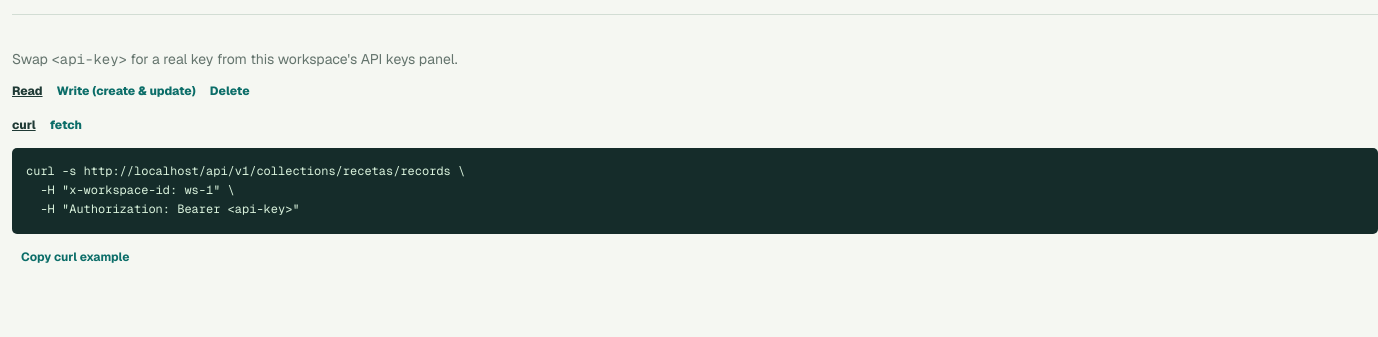
ApiExamplePanel › switches to a write example with a schema header and body when Write is picked
What coordinates should you click on to do the following:
click the button "Write (create & update)"
I would click on:
 (126, 91)
Its box is [56,78,196,104].
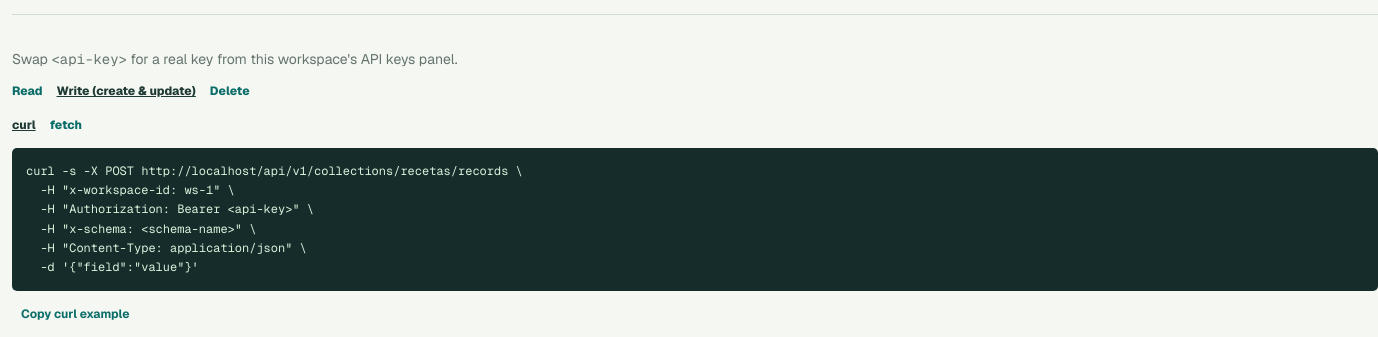
Expected: the text with class "api-example-snippet" shows "-X POST", [26,163,523,275]
Expected: the text with class "api-example-snippet" shows "x-schema", [26,163,523,275]
